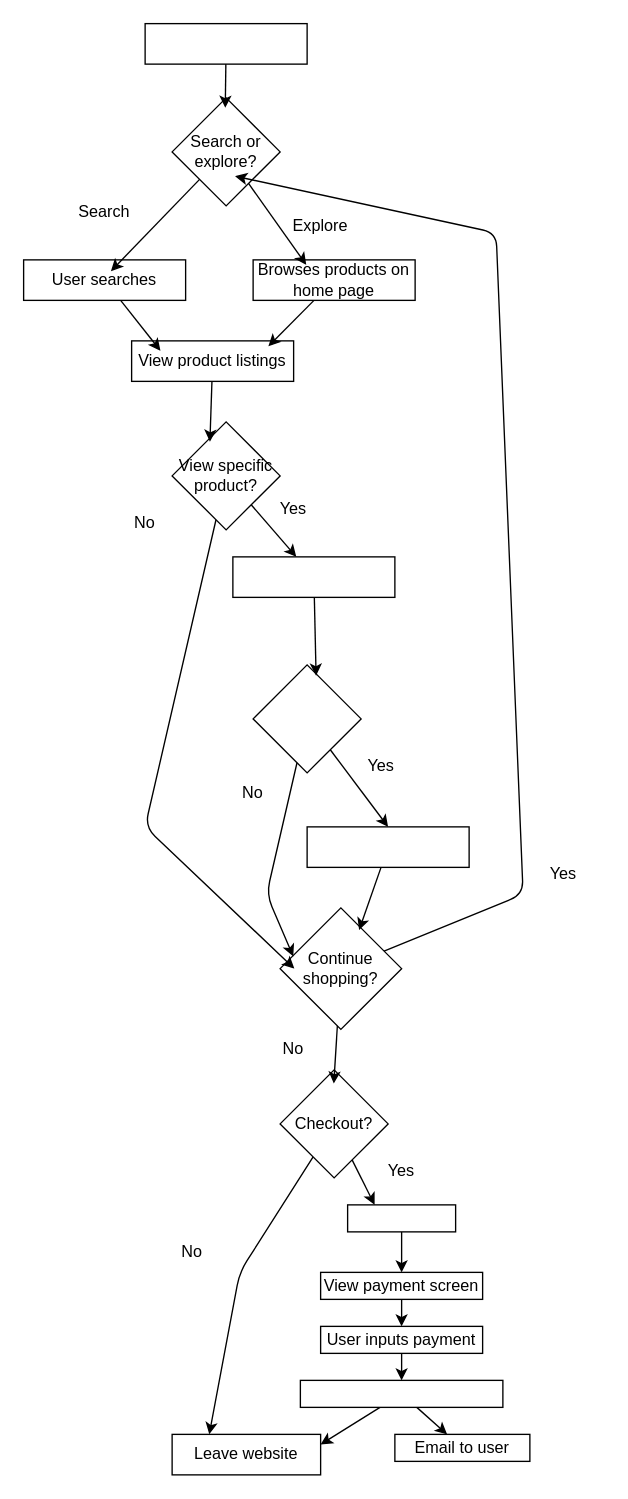
Some shapes in this 628 by 1499 pixel diagram are drawn without their labels. Here are the shapes that lost their labels. From the top down, the centre of each, then its label:
the point at 225,43: User enters website
the point at 313,576: Open product page
the point at 306,718: Add to cart?
the point at 387,846: Added to cart confirmation
the point at 401,1218: View cart
the point at 401,1393: Order confirmation screen
